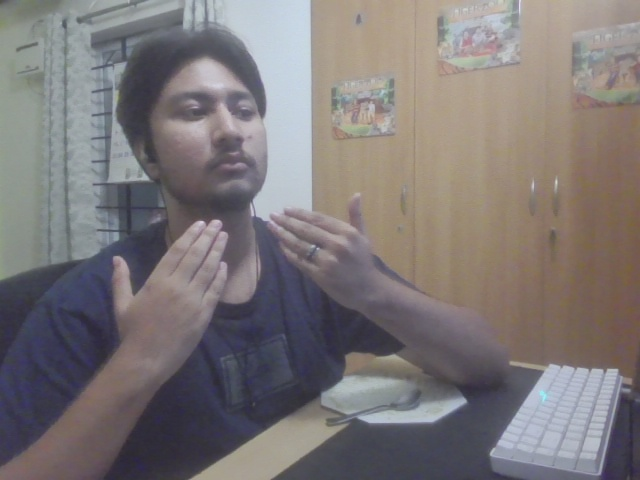thankyou: (98, 188, 391, 365)
